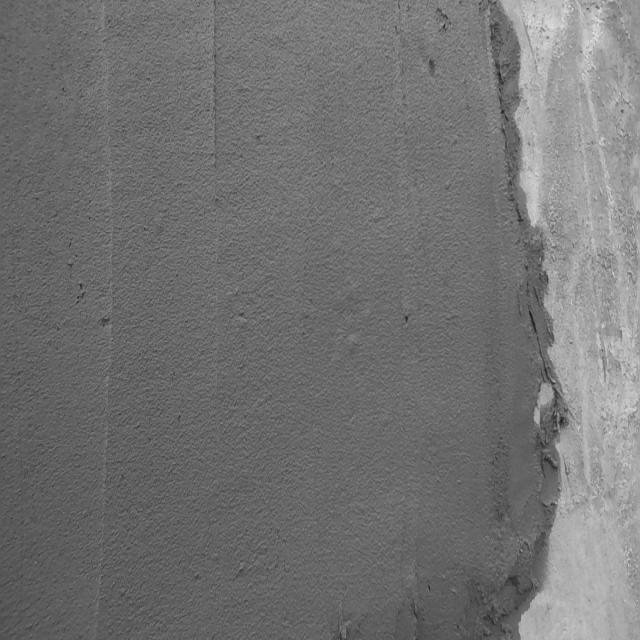trowels marks: (210, 3, 220, 177)
